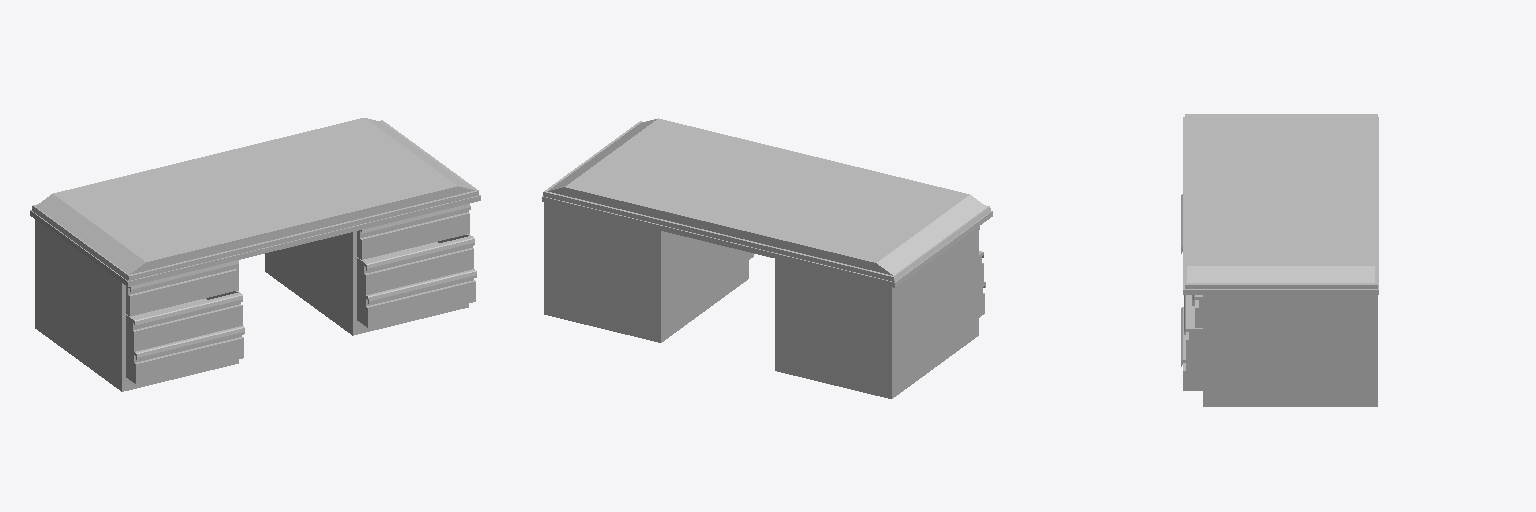
File: Desk.obj
3 views of the same model, side by side, from view 1: azimuth 30°, elevation 25°; view 2: azimuth 150°, elevation 25°; view 3: azimuth 270°, elevation 25° (orthographic).
Visible parts, largest first — view 1: Desk, Object001, Object002, Object003; view 2: Desk; view 3: Desk, Object002, Object001.
Boxes of the visible parts, box(x1,y1,x2,y2) form: Desk: box(30, 118, 480, 391); Object001: box(126, 234, 474, 351); Object002: box(126, 269, 476, 384); Object003: box(126, 204, 470, 316); Desk: box(542, 118, 992, 398); Desk: box(1183, 114, 1378, 406); Object002: box(1181, 194, 1202, 390); Object001: box(1184, 295, 1202, 359).
Bounding box in the file's own units: 120 × 42.44 × 58.08.